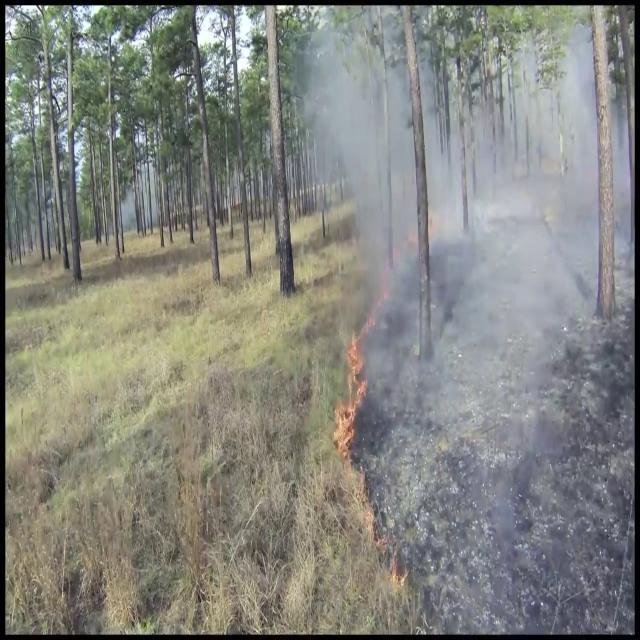Fire: (334, 316, 370, 456)
Smoke: (308, 19, 636, 546)
